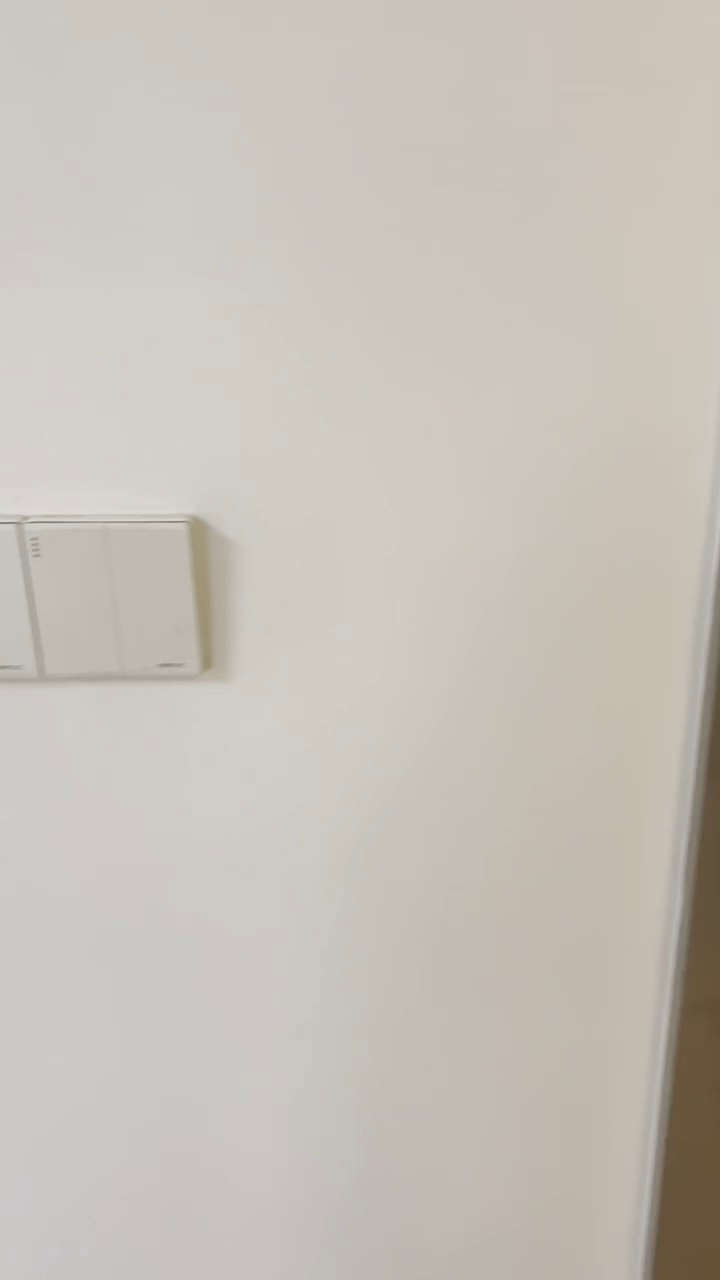button: (22, 513, 216, 676), (1, 509, 48, 681)
